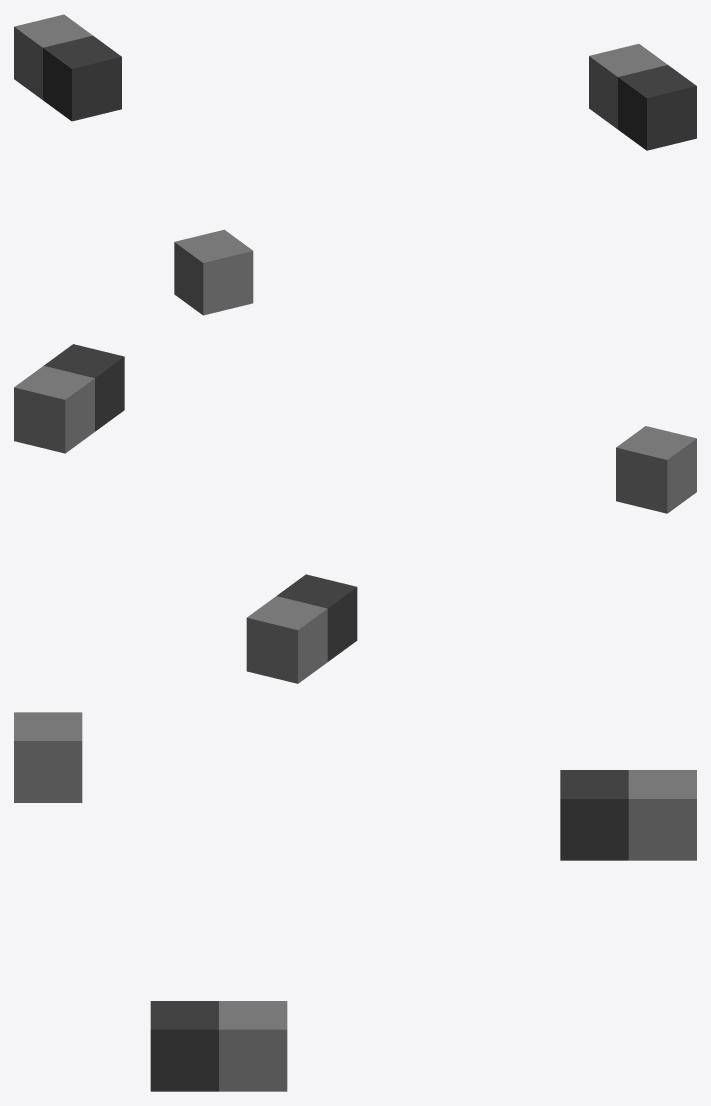
File: GravelPieces.obj
The picture shows the model from 3 angles, top to bottom: view 1: azimuth 30°, elevation 25°; view 2: azimuth 150°, elevation 25°; view 3: azimuth 270°, elevation 25°; orthographic projection. The views are drawn at different scales.
Parts seen in each view (by area): view 1: GravelPieces; view 2: GravelPieces; view 3: GravelPieces.
Part boxes in pixels (left/top/right/bottom): GravelPieces: left=14, top=14, right=696, bottom=315; GravelPieces: left=14, top=344, right=696, bottom=683; GravelPieces: left=14, top=712, right=696, bottom=1091.
Size of the model in its own units: 1.1 by 0.1 by 1.
Materials: 1 (1 with a texture image).
